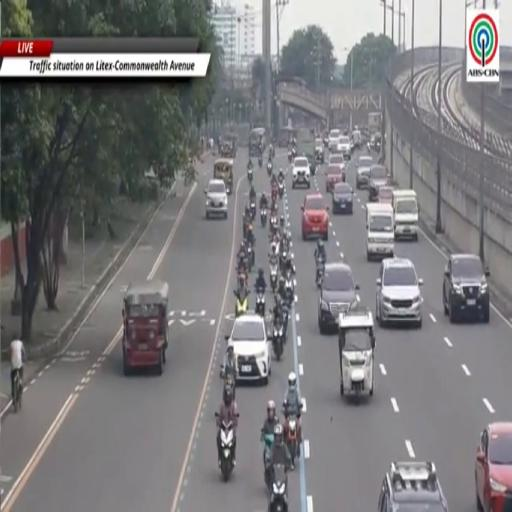car: (378, 461, 448, 511), (375, 258, 423, 328), (226, 313, 271, 385), (443, 254, 489, 323), (475, 423, 511, 511), (318, 262, 359, 333), (301, 194, 329, 241), (205, 180, 227, 218), (369, 165, 389, 201), (332, 183, 353, 214), (292, 156, 311, 188), (356, 155, 372, 189), (326, 165, 345, 193), (356, 166, 370, 189), (338, 136, 351, 159), (328, 154, 345, 171), (378, 186, 393, 204), (304, 153, 316, 175), (328, 130, 339, 152), (315, 138, 324, 164), (351, 130, 362, 149), (357, 155, 373, 167)
jeepney: (123, 280, 169, 375), (339, 309, 375, 397), (214, 158, 233, 195), (249, 128, 265, 157), (220, 134, 237, 157), (278, 127, 296, 147)
motorcycle: (269, 464, 288, 511), (285, 415, 299, 465), (263, 434, 273, 490), (221, 366, 235, 398), (273, 323, 284, 360), (284, 270, 294, 306), (234, 293, 248, 317), (255, 291, 265, 317), (283, 303, 289, 344), (316, 259, 324, 289), (247, 245, 255, 271), (270, 264, 277, 293), (270, 233, 279, 255), (280, 247, 287, 270), (270, 215, 278, 233), (271, 186, 278, 202), (278, 180, 284, 198), (250, 201, 256, 219), (261, 208, 266, 227), (267, 162, 272, 177), (248, 168, 253, 182), (375, 141, 381, 152), (269, 147, 275, 158), (258, 157, 263, 168), (288, 151, 292, 163), (324, 137, 328, 148), (292, 148, 296, 158), (216, 412, 218, 418)
